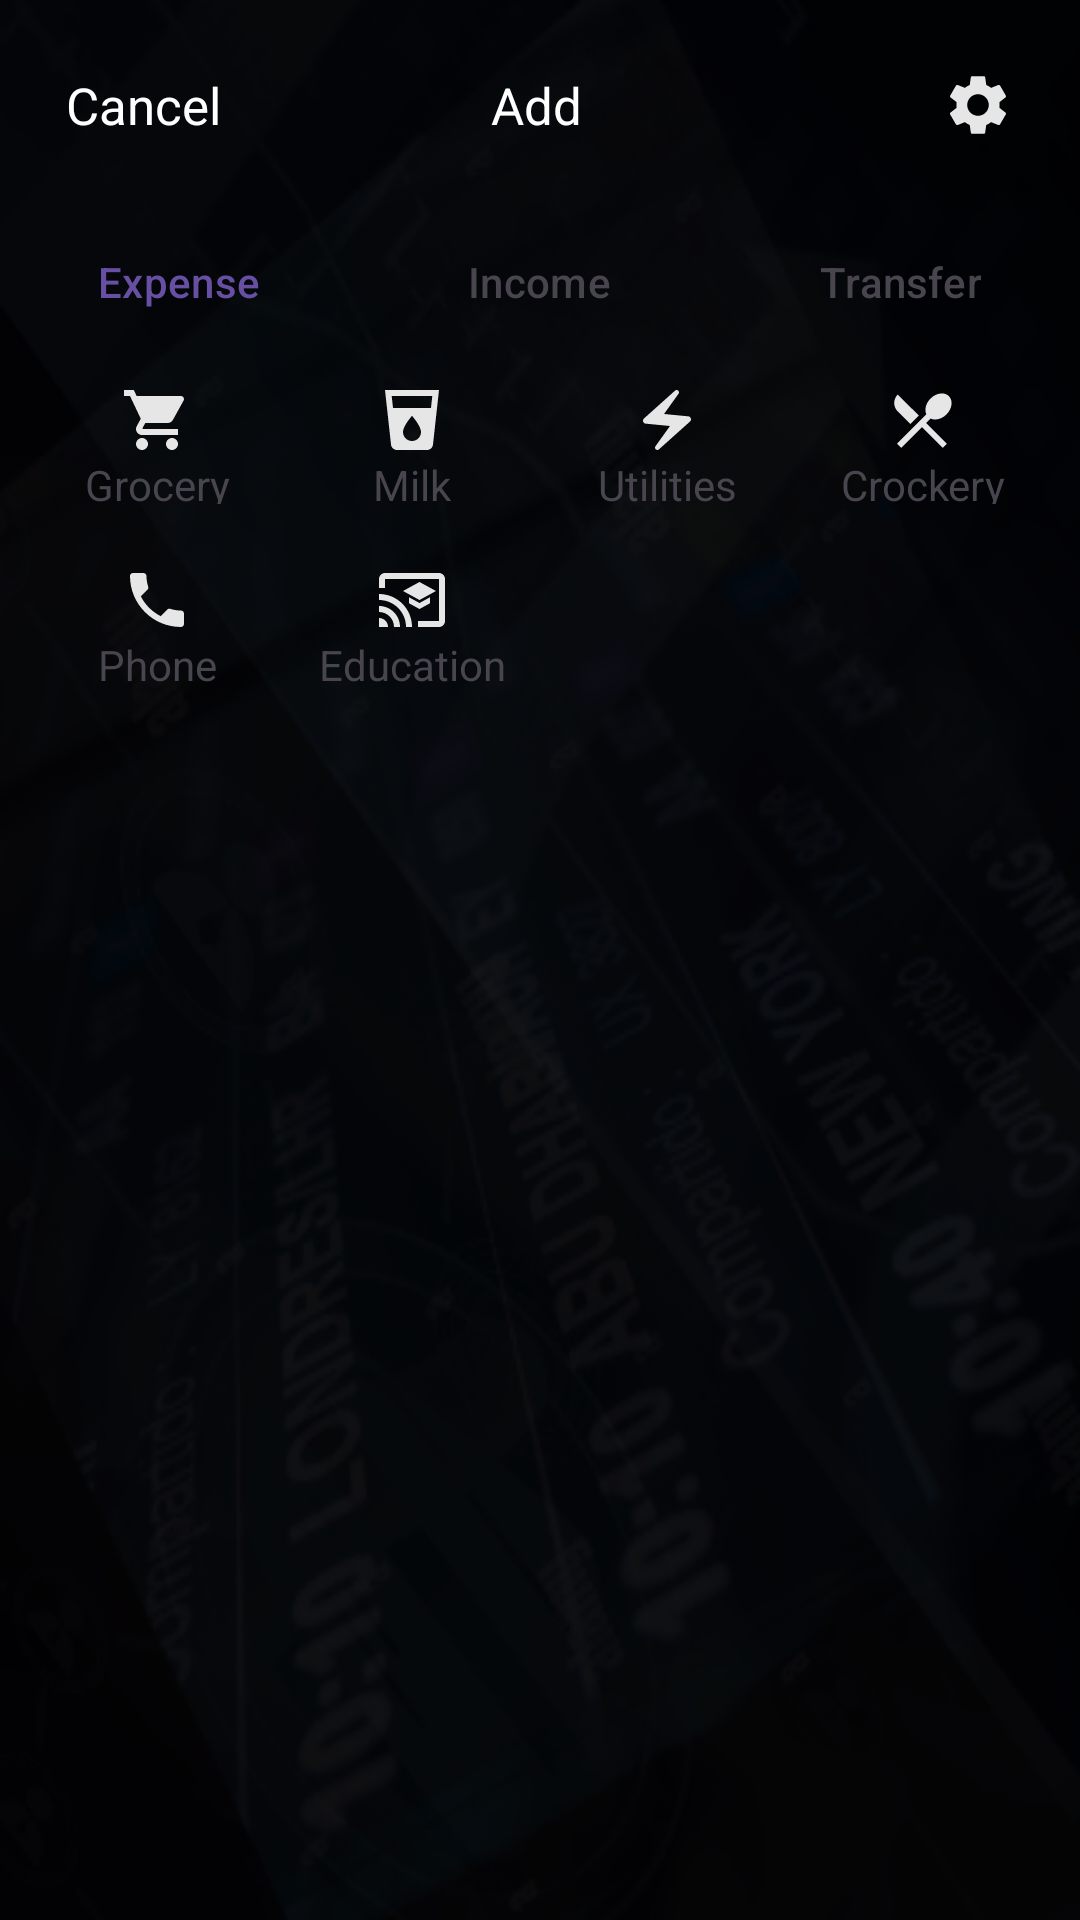

Screen size 1080 × 1920. Icon name, then its box in pixels as (x1, y1, x2, y2):
setting bd: (950, 76, 1006, 134)
